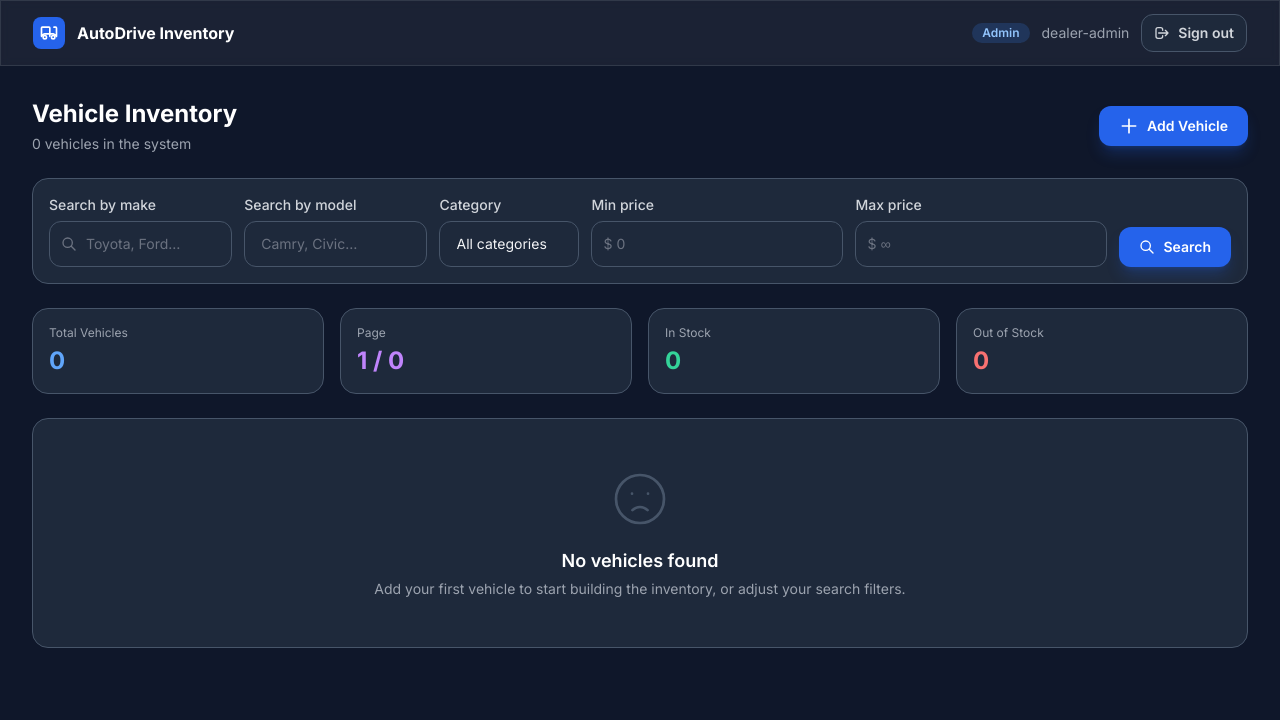
it: Dashboard role controls › shows the admin dashboard action to an admin
expect the text "Admin" is shown: met, box 972,23 -> 1030,43
Click the button "Add Vehicle" at coordinates (1174, 126), box 1099,106 -> 1248,146
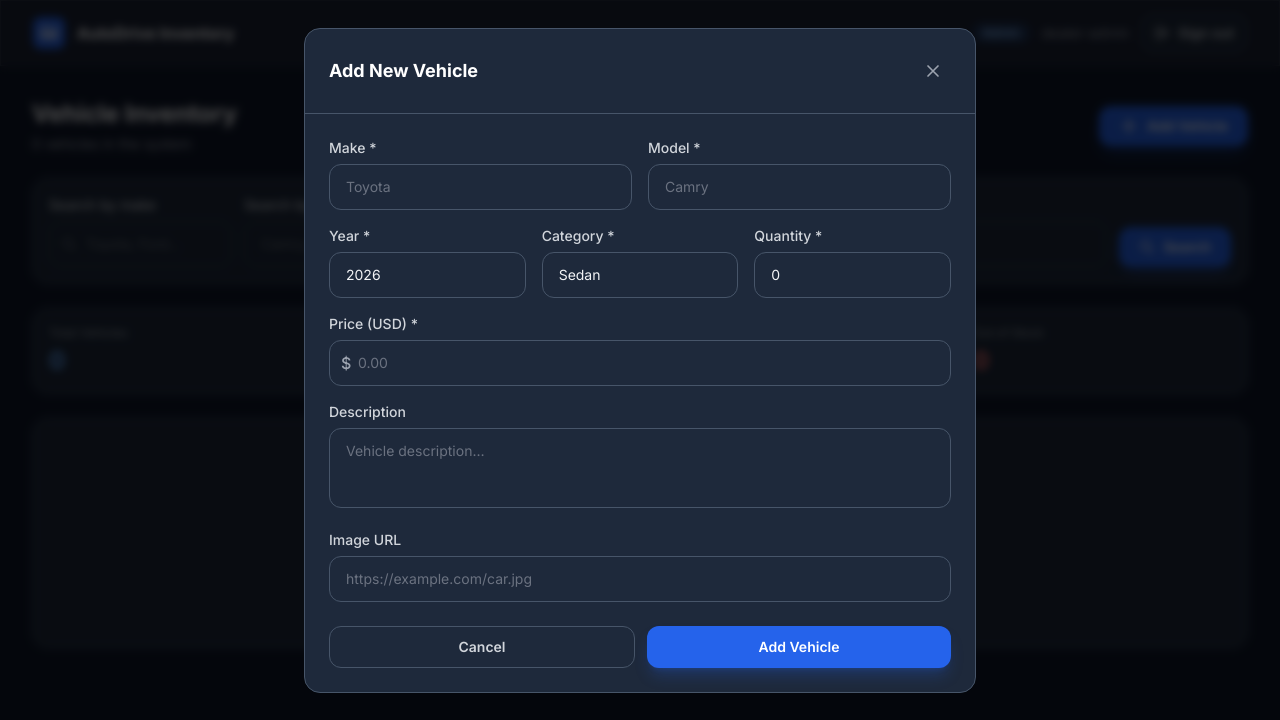
expect the heading "Add New Vehicle" is shown: met, box 329,56 -> 478,84
